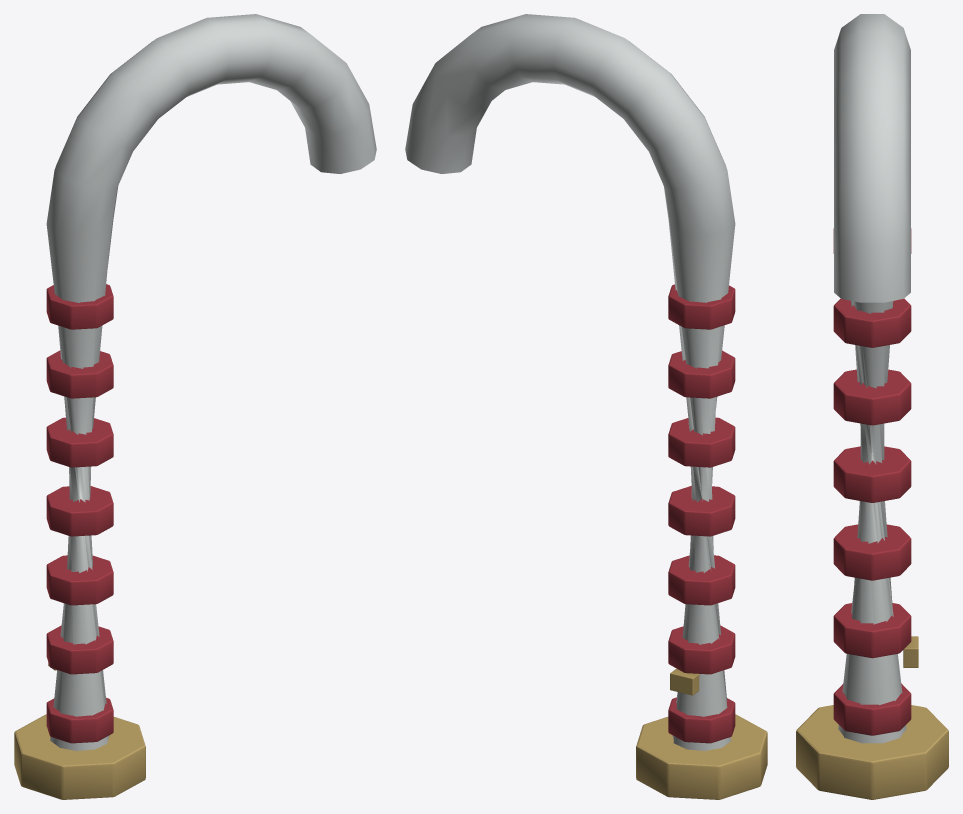
Rendered from candy_cane.glb.
3 renders of one model, left to right at view 1: azimuth 30°, elevation 25°; view 2: azimuth 150°, elevation 25°; view 3: azimuth 270°, elevation 25°, orthographic. The views are drawn at different scales.
Size of the model in its own units: 0.5318 by 1.04 by 0.1787.
